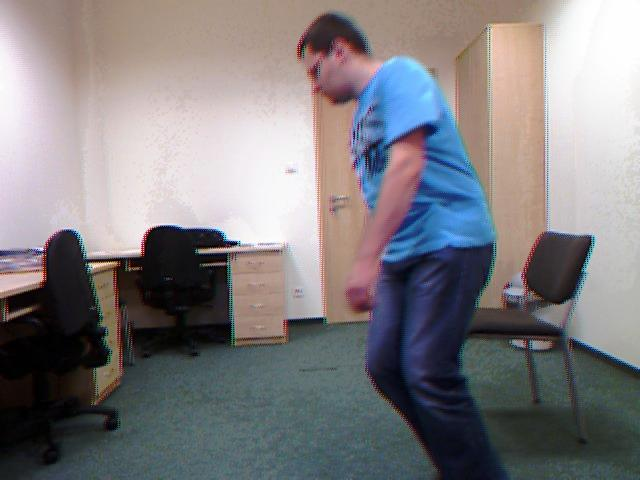near-fall: (290, 5, 532, 480)
